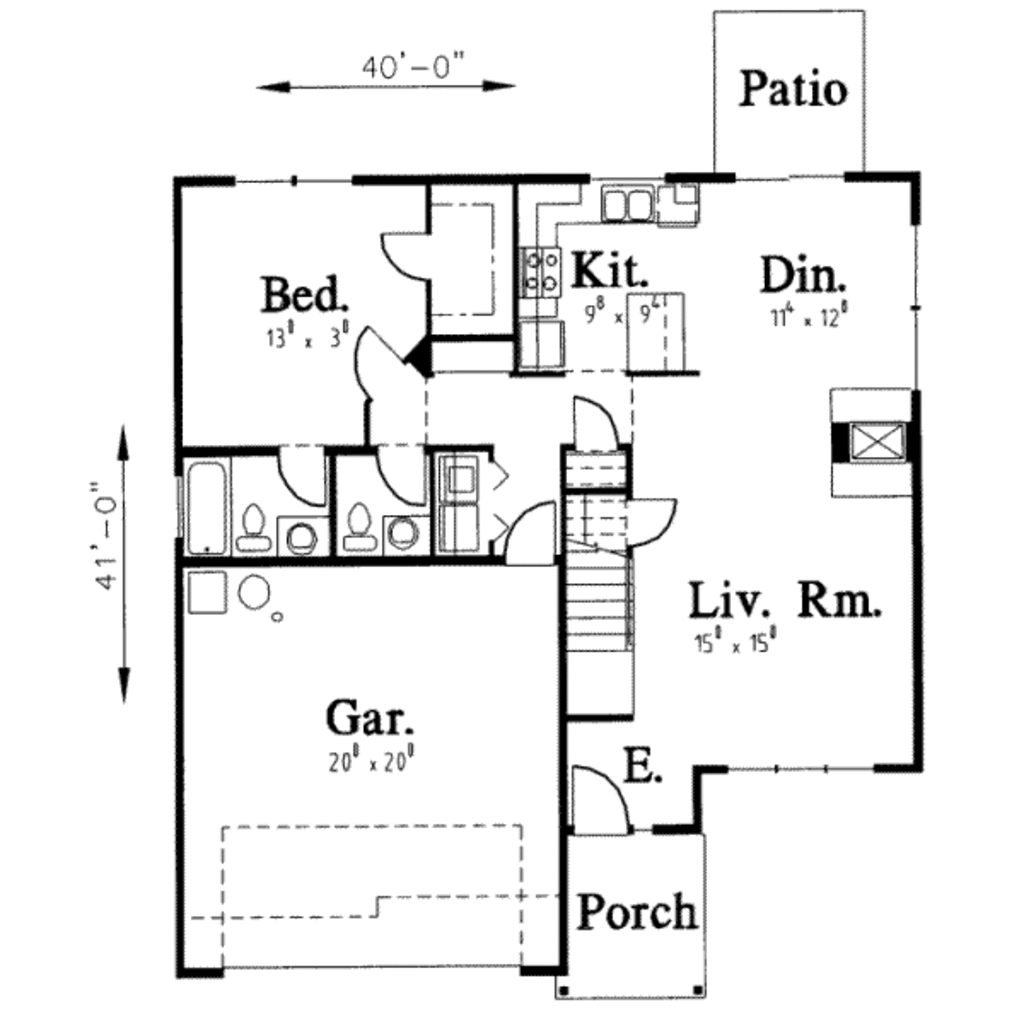door: (345, 319, 409, 406), (563, 760, 632, 836), (369, 217, 436, 295), (488, 492, 553, 570), (563, 395, 637, 458), (617, 485, 682, 549), (277, 446, 332, 506), (378, 443, 431, 501)
large_sink: (228, 503, 272, 558), (348, 495, 377, 555)
small_sink: (274, 511, 334, 555), (382, 511, 429, 555)
stairs: (566, 452, 637, 720)
tub: (180, 457, 234, 560)
twin_sink: (582, 170, 667, 232)
window: (905, 236, 925, 389), (237, 168, 352, 192), (739, 173, 847, 181)
